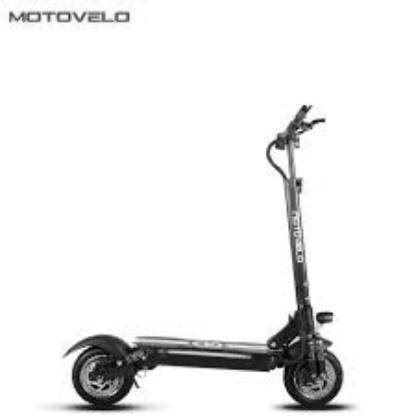bike: (62, 310, 345, 410), (266, 308, 344, 410)
